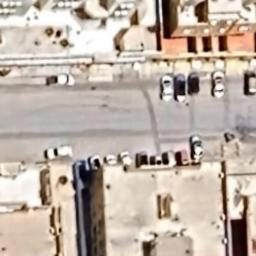pickup: (40, 70, 80, 90)
sedan: (158, 74, 176, 102), (190, 134, 208, 162), (211, 70, 228, 98), (105, 151, 118, 167), (136, 150, 149, 166), (120, 152, 134, 166), (152, 154, 164, 166)
unknown: (188, 71, 202, 97), (176, 74, 188, 104), (87, 152, 103, 169), (178, 148, 190, 168), (166, 148, 176, 167)
van: (42, 140, 76, 166)
